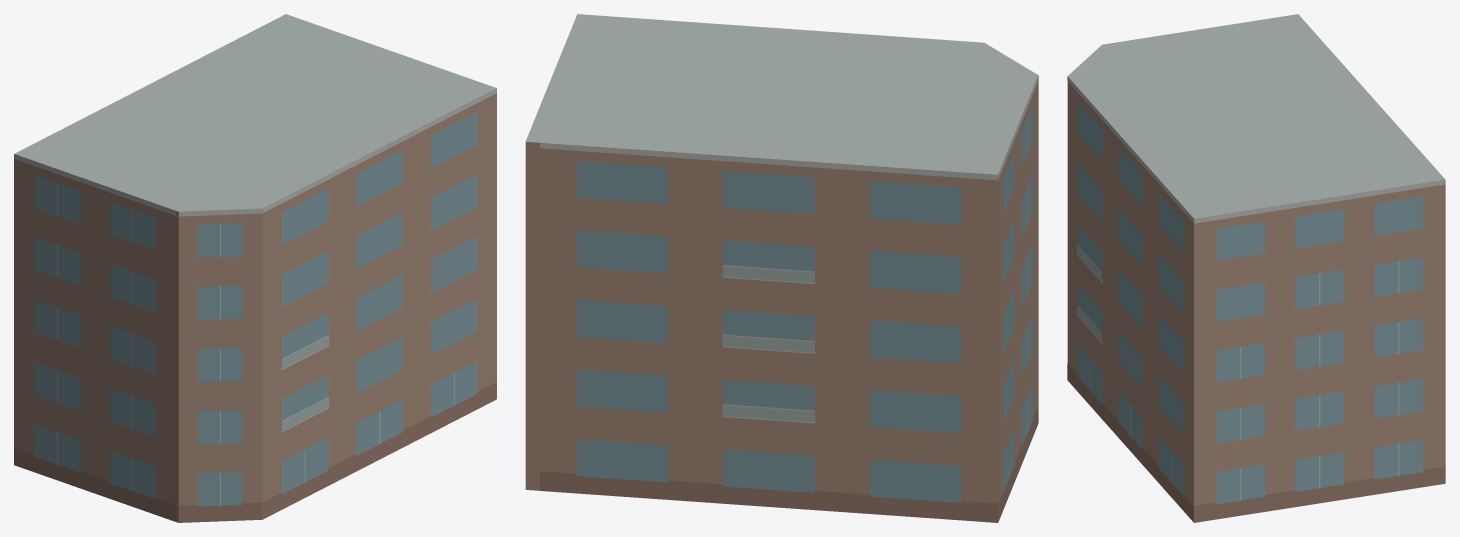
Rendered from survey-upis-32837380.glb.
3 renders of one model, left to right at view 1: azimuth 30°, elevation 25°; view 2: azimuth 150°, elevation 25°; view 3: azimuth 270°, elevation 25°, orthographic. The views are drawn at different scales.
Parts seen in each view (by area): view 1: survey-upis-32837380.tmp; view 2: survey-upis-32837380.tmp; view 3: survey-upis-32837380.tmp.
Boxes of the visible parts, x1=… form: survey-upis-32837380.tmp: x1=14, y1=14, x2=496, y2=522; survey-upis-32837380.tmp: x1=525, y1=14, x2=1038, y2=522; survey-upis-32837380.tmp: x1=1067, y1=14, x2=1445, y2=522.
Bounding box in the file's own units: 22.11 × 15.3 × 17.24.
